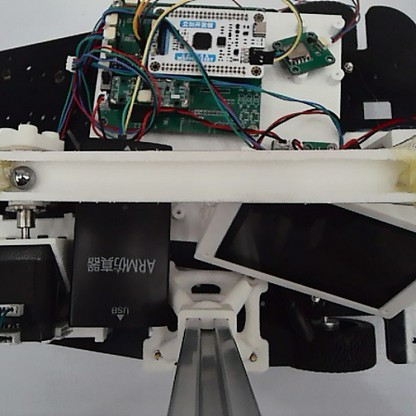ironball: (9, 161, 37, 192)
